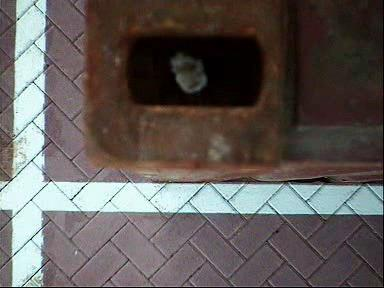groundmarker_2: (88, 73, 142, 109), (91, 223, 145, 259)
